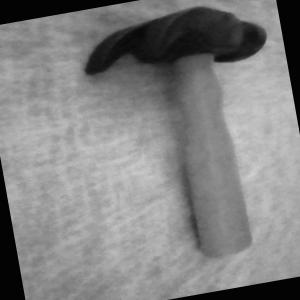martelo: (79, 0, 300, 274)
